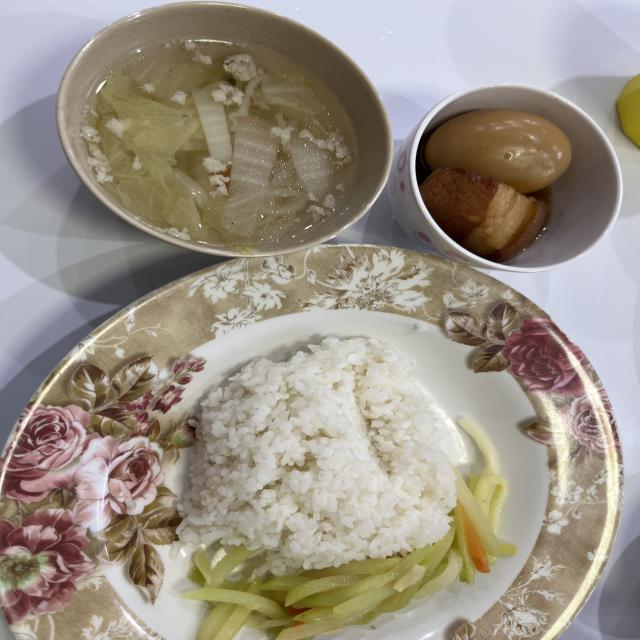canh cai: (79, 40, 357, 254)
com: (179, 339, 455, 575)
kho trung: (420, 110, 571, 262)
rau: (182, 419, 517, 640)
